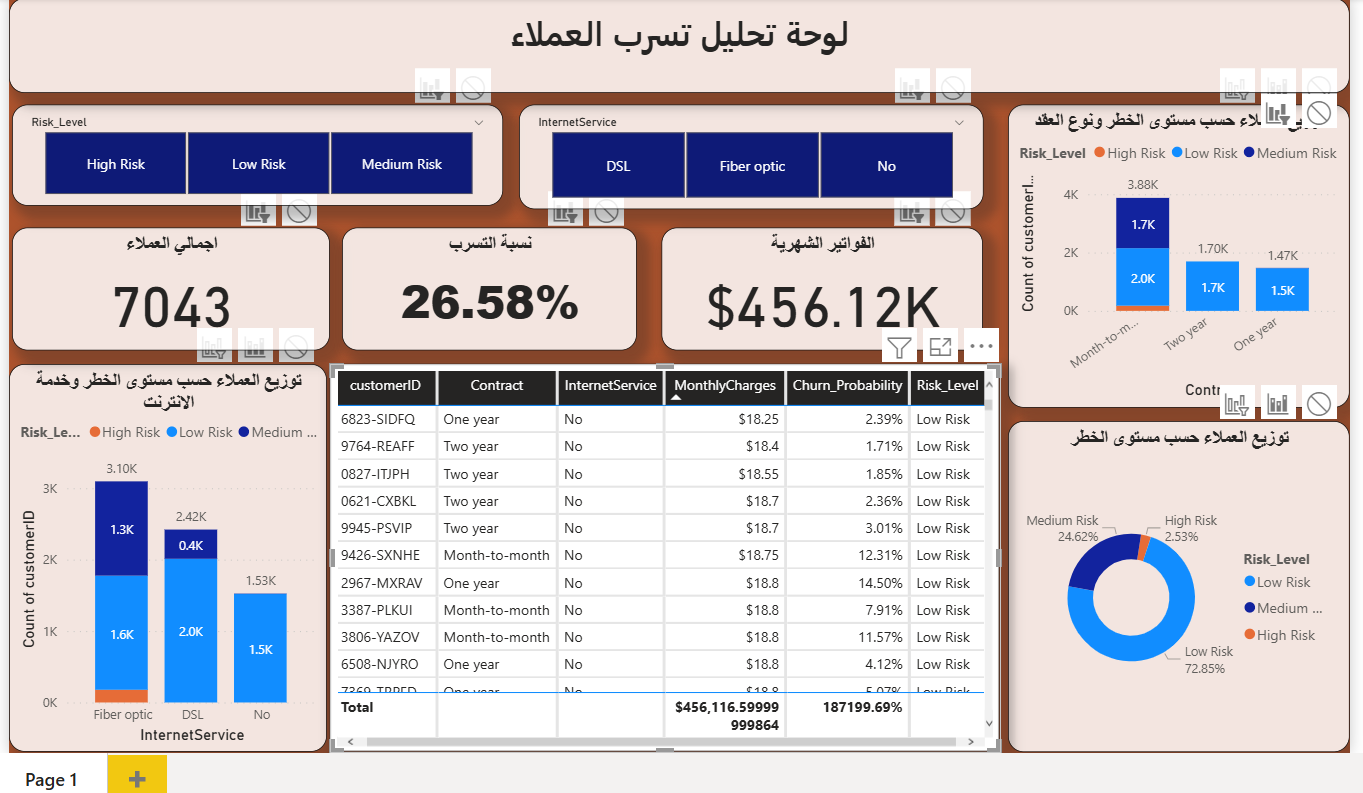

Layout of this report page (visuals, bound fields, positions):
{"tool":"powerbi","page":{"name":"Page 1","canvas":[1280,720],"ordinal":0},"visuals":[{"type":"columnChart","title":"توزيع العملاء حسب مستوى الخطر ونوع العقد","fields":{"Category":["telco_churn_with_predictions.Contract"],"Y":["CountNonNull(telco_churn_with_predictions.customerID)"],"Series":["telco_churn_with_predictions.Risk_Level"]},"box":[953.6,101.7,325.8,289.3],"z":0},{"type":"columnChart","title":"توزيع العملاء حسب مستوى الخطر وخدمة الانترنت","fields":{"Series":["telco_churn_with_predictions.Risk_Level"],"Category":["telco_churn_with_predictions.InternetService"],"Y":["CountNonNull(telco_churn_with_predictions.customerID)"]},"box":[0,349.7,303.6,370.3],"z":1000},{"type":"donutChart","title":"توزيع العملاء حسب مستوى الخطر","fields":{"Category":["telco_churn_with_predictions.Risk_Level"],"Y":["CountNonNull(telco_churn_with_predictions.customerID)"]},"box":[953.6,403.7,325.8,316.3],"z":2000},{"type":"card","title":"اجمالي العملاء","fields":{"Values":["CountNonNull(telco_churn_with_predictions.customerID)"]},"box":[3.2,219.3,303.6,117.6],"z":3000},{"type":"card","title":"نسبة التسرب","fields":{"Values":["Avg(telco_churn_with_predictions.Churn_Probability)"]},"box":[317.9,219.3,281.3,117.6],"z":4000},{"type":"card","title":"الفواتير الشهرية","fields":{"Values":["Sum(telco_churn_with_predictions.MonthlyCharges)"]},"box":[623,219.3,306.8,117.6],"z":5000},{"type":"tableEx","fields":{"Values":["telco_churn_with_predictions.customerID","telco_churn_with_predictions.Contract","telco_churn_with_predictions.InternetService","Sum(telco_churn_with_predictions.MonthlyCharges)","Sum(telco_churn_with_predictions.Churn_Probability)","telco_churn_with_predictions.Risk_Level"]},"box":[306.8,349.7,638.9,370.3],"z":6000},{"type":"slicer","fields":{"Values":["telco_churn_with_predictions.Risk_Level"]},"box":[3.2,101.7,468.9,97],"z":7000},{"type":"slicer","fields":{"Values":["telco_churn_with_predictions.InternetService"]},"box":[486.4,101.7,443.4,100.1],"z":8000},{"type":"textbox","box":[0,0,1279.5,90.6],"z":9000}]}

Visuals, with their boxes in screenshot pixels (x1, y1, x2, y2):
"توزيع العملاء حسب مستوى الخطر ونوع العقد" columnChart: pyautogui.locateOnScreen(1005, 100, 1347, 403)
"توزيع العملاء حسب مستوى الخطر وخدمة الانترنت" columnChart: pyautogui.locateOnScreen(4, 360, 322, 749)
"توزيع العملاء حسب مستوى الخطر" donutChart: pyautogui.locateOnScreen(1005, 417, 1347, 749)
"اجمالي العملاء" card: pyautogui.locateOnScreen(7, 223, 326, 347)
"نسبة التسرب" card: pyautogui.locateOnScreen(337, 223, 633, 347)
"الفواتير الشهرية" card: pyautogui.locateOnScreen(658, 223, 980, 347)
tableEx - telco_churn_with_predictions.customerID x telco_churn_with_predictions.Contract: pyautogui.locateOnScreen(326, 360, 997, 749)
slicer - telco_churn_with_predictions.Risk_Level: pyautogui.locateOnScreen(7, 100, 499, 202)
slicer - telco_churn_with_predictions.InternetService: pyautogui.locateOnScreen(514, 100, 980, 205)
textbox: pyautogui.locateOnScreen(4, 0, 1347, 88)
